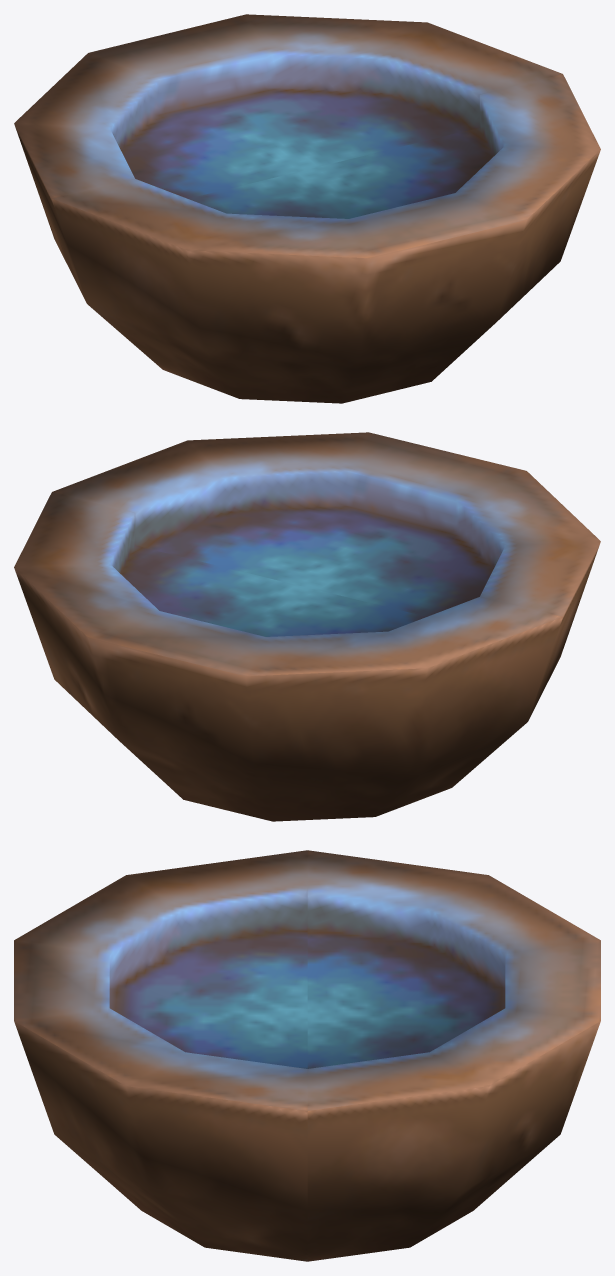
Rendered from sn_jiguan_shitai_002.FBX.
3 views of the same model, one above another, from view 1: azimuth 30°, elevation 25°; view 2: azimuth 150°, elevation 25°; view 3: azimuth 270°, elevation 25° (orthographic). The views are drawn at different scales.
Visible parts, largest first — view 1: Sn_jiguan_shitai_002; view 2: Sn_jiguan_shitai_002; view 3: Sn_jiguan_shitai_002.
Boxes of the visible parts, bbox=[...] form: Sn_jiguan_shitai_002: bbox=[14, 14, 600, 403]; Sn_jiguan_shitai_002: bbox=[14, 432, 600, 821]; Sn_jiguan_shitai_002: bbox=[14, 850, 600, 1261].
Bounding box in the file's own units: 246 × 91.05 × 234.
